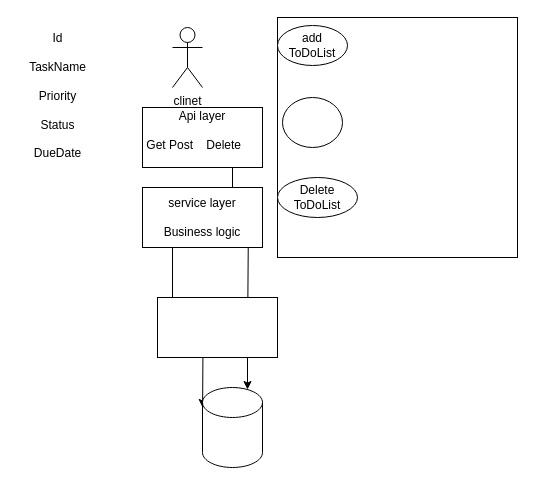
The diagram is 535 pixels wide and 485 high, and some of its shapes have lost their labels. Each missing label, with the centre of its shape:
"Data Access layer" goes at pixel 217 327.
"Update ToDoList" goes at pixel 312 122.
